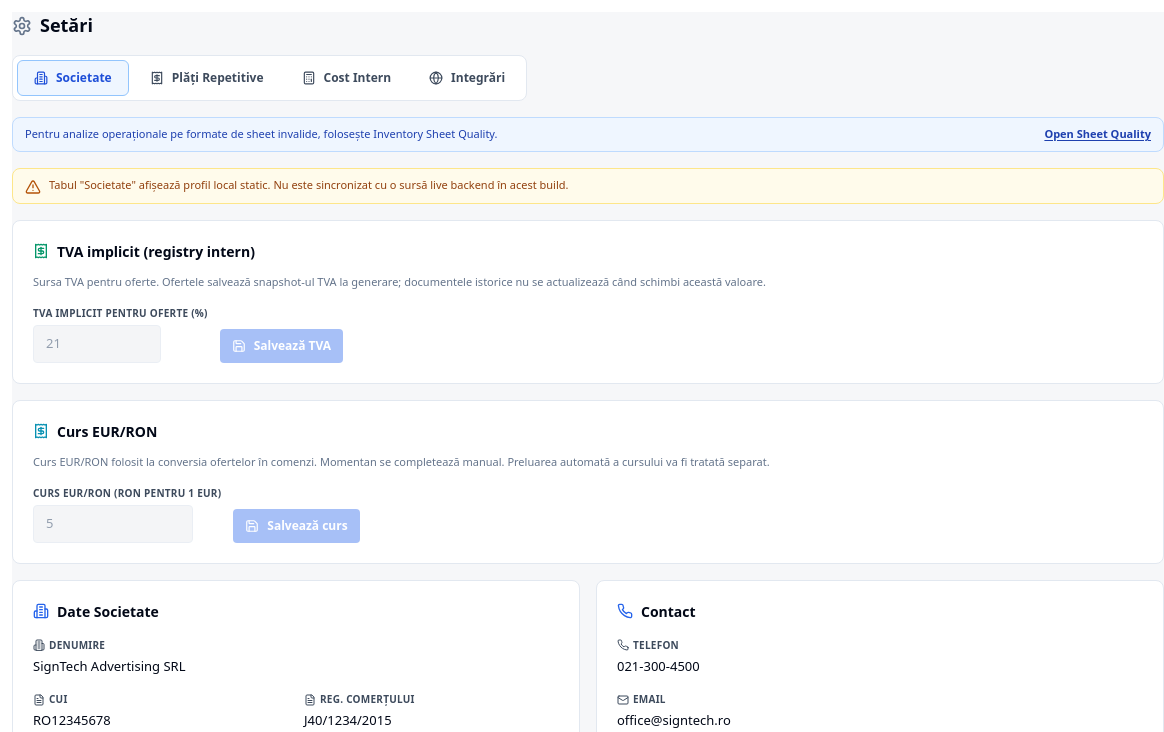
Test: Settings VAT governance › rejects invalid VAT client-side
This screenshot has width=1164, height=732.
Replace the text in the number field with test id "settings-default-vat-pct" with "150" at (97, 344), box [33,325,161,362]
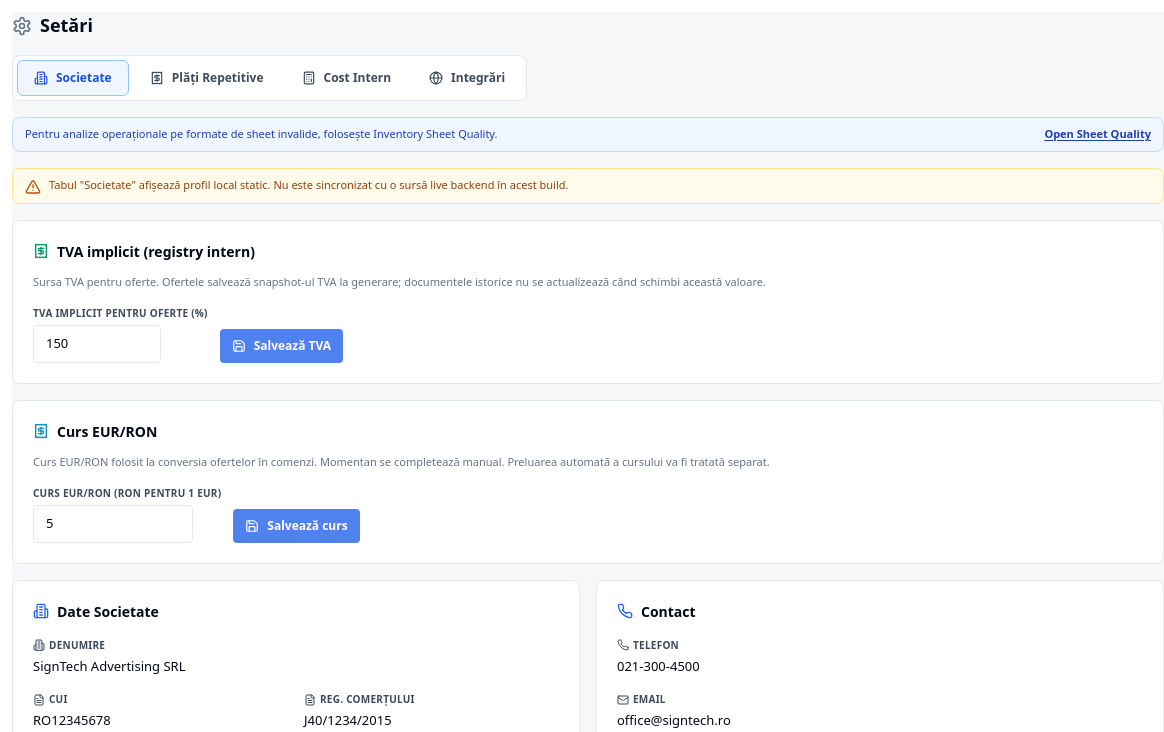
Click the button "Salvează TVA" at (281, 346), box [220,328,343,362]
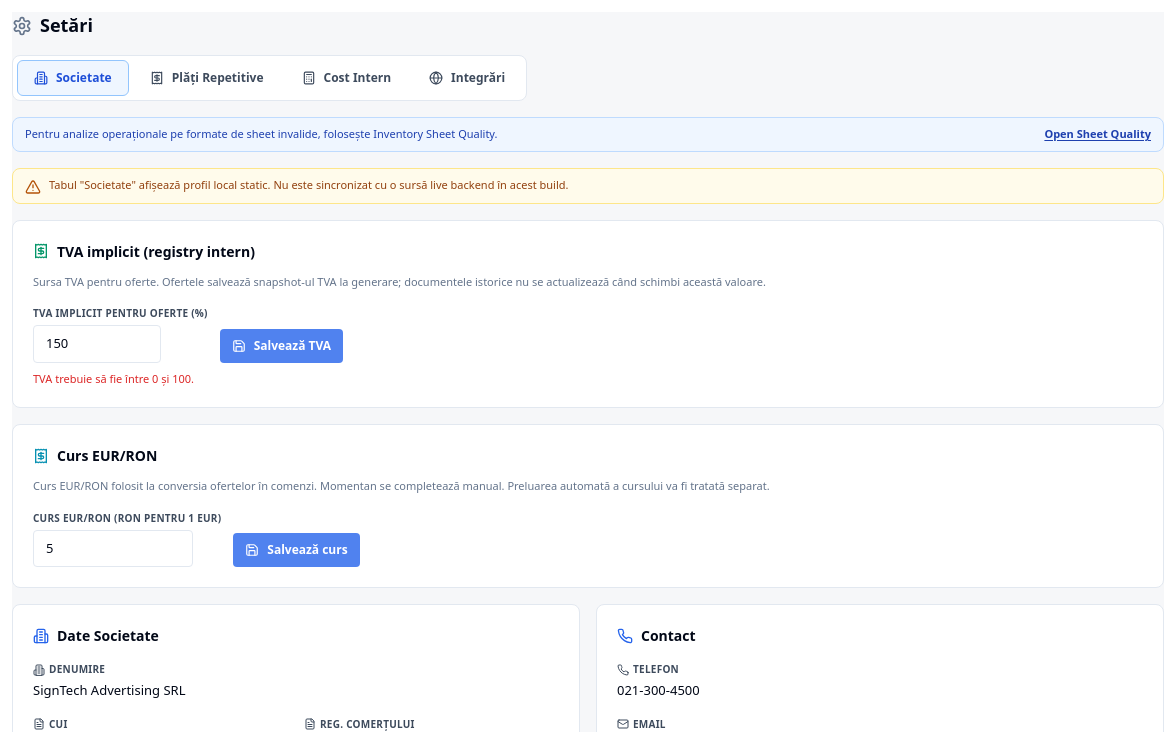
Expected: the text "TVA trebuie să fie între 0 și 100." is shown, [33,370,194,386]
